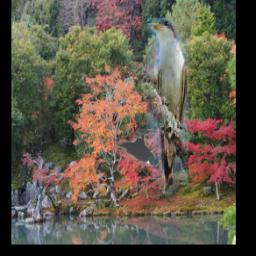Crow: (117, 129, 161, 167)
Cuckoo: (148, 19, 189, 240)
